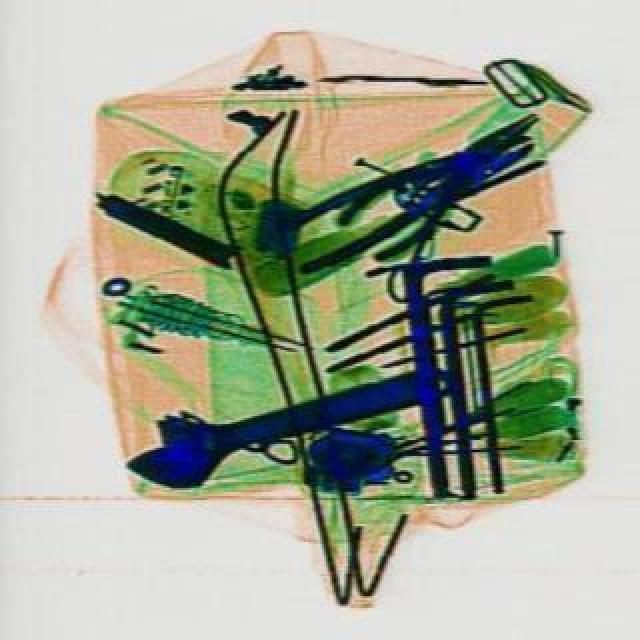scissors: (110, 348, 462, 508)
wrench: (268, 116, 546, 282), (324, 90, 556, 274)
